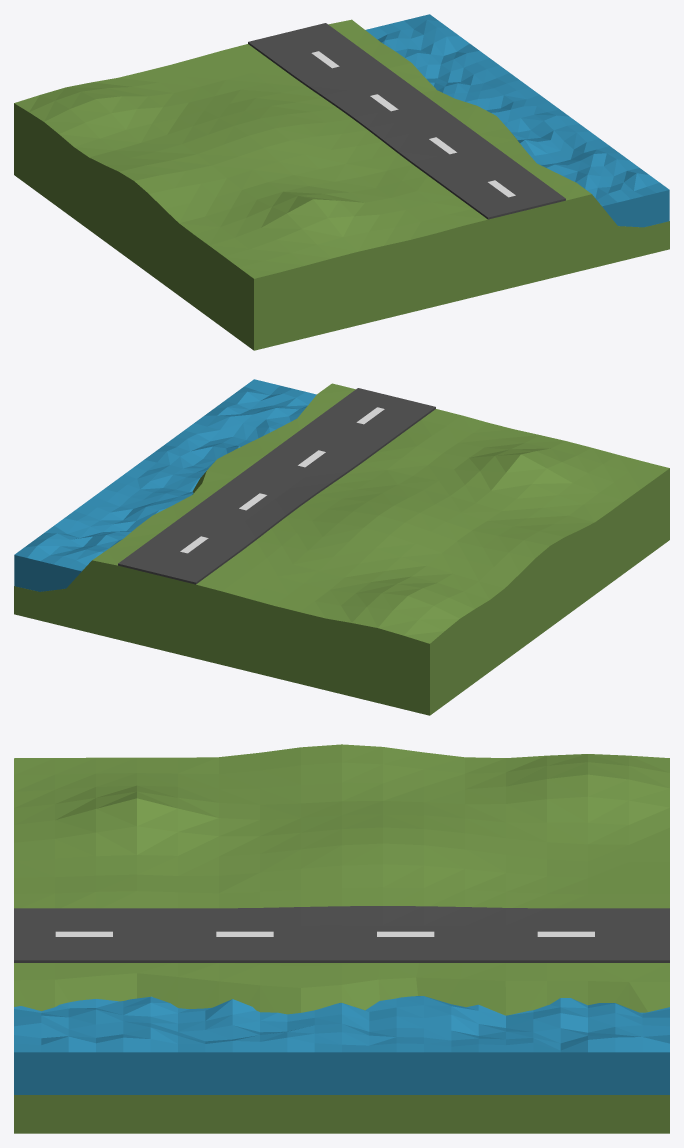
File: terrain.fbx
3 views of the same model, one above another, from view 1: azimuth 30°, elevation 25°; view 2: azimuth 150°, elevation 25°; view 3: azimuth 270°, elevation 25° (orthographic). The views are drawn at different scales.
Parts seen in each view (by area): view 1: terrain, route, Eau, trait route; view 2: terrain, route, Eau, trait route; view 3: terrain, Eau, route, trait route.
Boxes of the visible parts, x1=… form: terrain: x1=14, y1=19, x2=669, y2=350; route: x1=248, y1=23, x2=565, y2=219; Eau: x1=365, y1=14, x2=669, y2=227; trait route: x1=311, y1=51, x2=515, y2=197; terrain: x1=14, y1=383, x2=669, y2=715; route: x1=118, y1=388, x2=435, y2=584; Eau: x1=14, y1=379, x2=316, y2=591; trait route: x1=180, y1=407, x2=384, y2=553; terrain: x1=14, y1=744, x2=669, y2=1133; Eau: x1=14, y1=996, x2=669, y2=1094; route: x1=14, y1=906, x2=669, y2=962; trait route: x1=55, y1=931, x2=594, y2=936.
Size of the model in its own units: 800 by 171 by 800.
